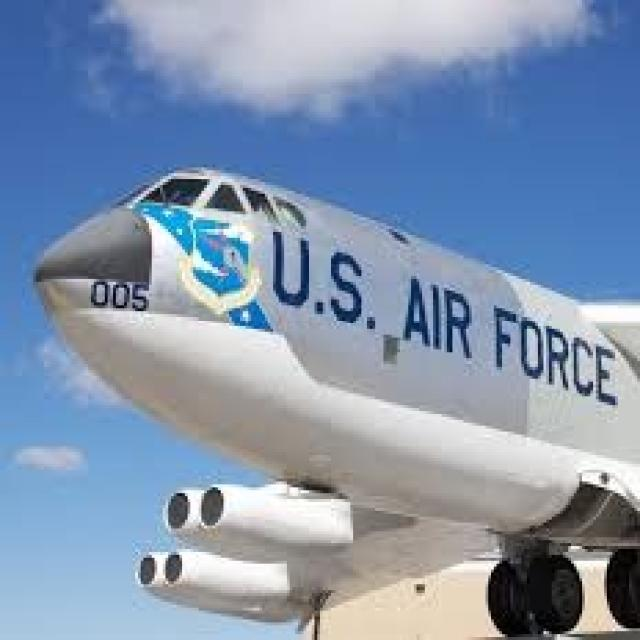B52: (5, 129, 640, 640)
